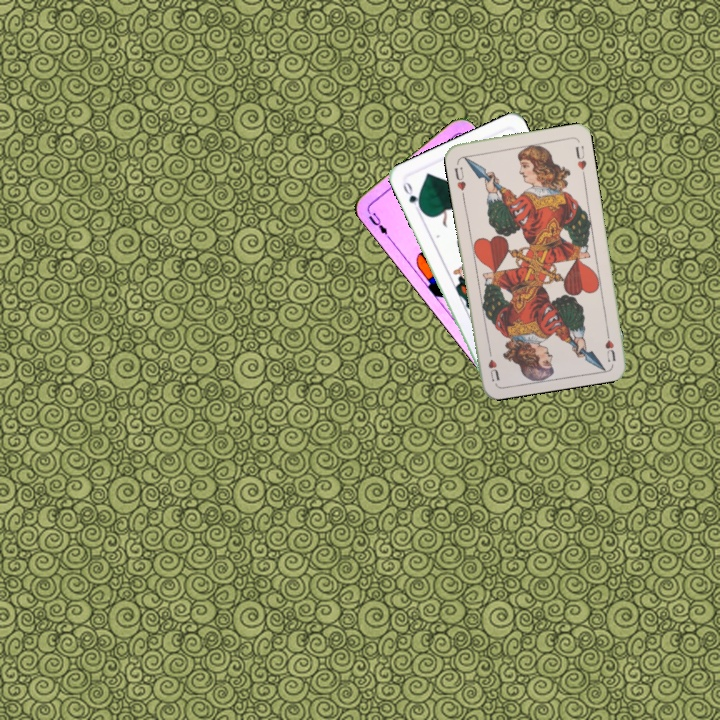EU: (364, 208, 392, 241)
GO: (399, 178, 425, 216)
HU: (601, 324, 618, 364), (451, 164, 468, 198)
